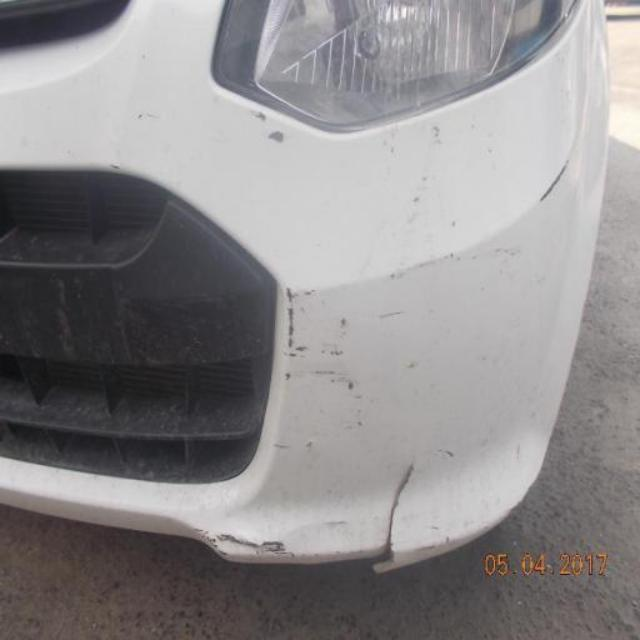crack: (367, 459, 419, 575)
scratch: (312, 310, 371, 441), (203, 522, 303, 563), (281, 284, 303, 392), (243, 101, 293, 147), (537, 155, 572, 214)
